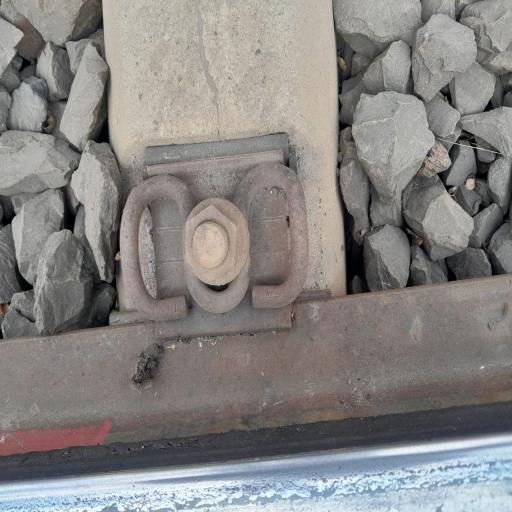bolt: (177, 187, 259, 305)
clip: (113, 149, 318, 335)
